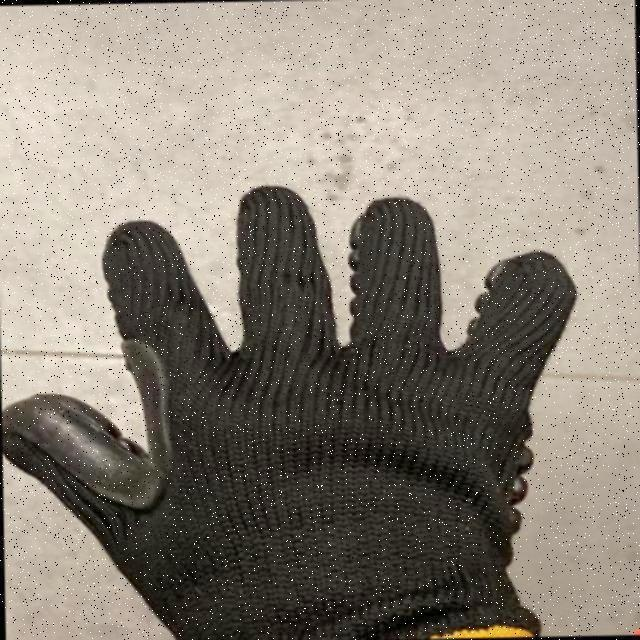Guantes: (6, 183, 589, 640)
